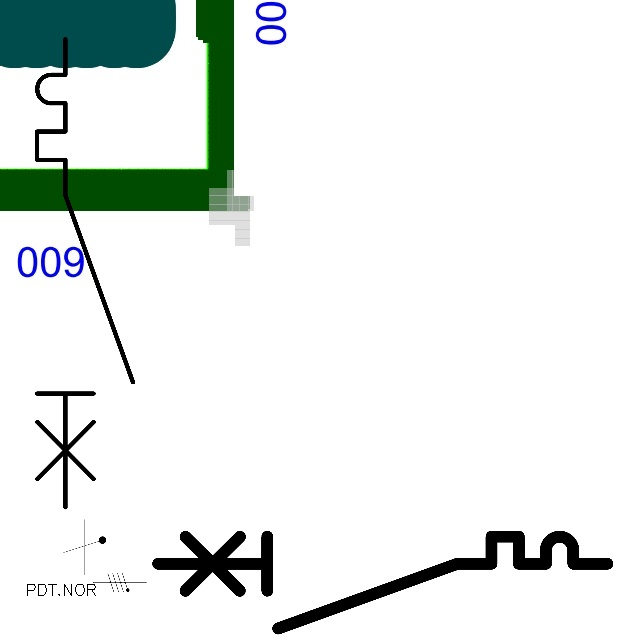interruptor_termomagnetico: (25, 27, 145, 519), (146, 525, 618, 640)
